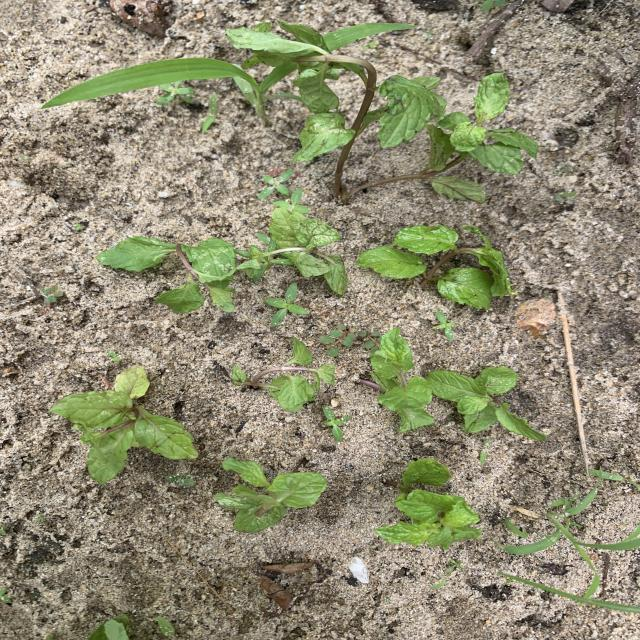crop: (226, 22, 538, 204), (50, 367, 199, 483), (358, 226, 514, 307), (96, 237, 239, 311), (375, 458, 480, 549), (241, 206, 345, 294), (427, 366, 543, 439), (215, 459, 326, 531), (361, 328, 434, 433), (232, 337, 335, 410), (88, 615, 130, 639)
weed: (497, 487, 640, 613), (42, 57, 290, 114), (323, 24, 415, 51), (265, 284, 307, 324), (320, 325, 365, 355), (589, 467, 640, 490), (259, 170, 292, 197), (324, 407, 349, 440), (274, 188, 309, 211), (157, 81, 193, 103), (201, 92, 216, 133), (434, 311, 455, 337), (506, 520, 527, 538), (360, 329, 379, 347), (165, 475, 195, 486), (43, 286, 63, 302), (158, 617, 175, 635), (479, 438, 490, 464), (556, 191, 575, 204), (446, 559, 462, 572), (480, 1, 506, 9), (1, 589, 11, 603), (108, 351, 119, 361), (74, 224, 83, 230)
